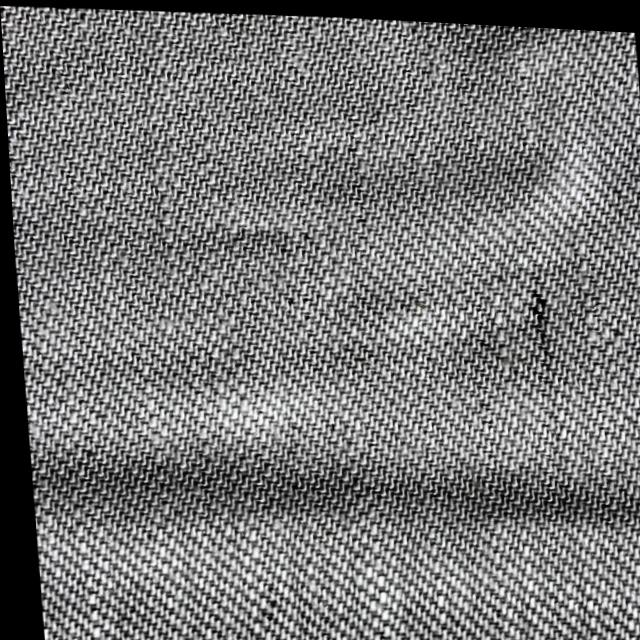Hole: (516, 278, 563, 359)
